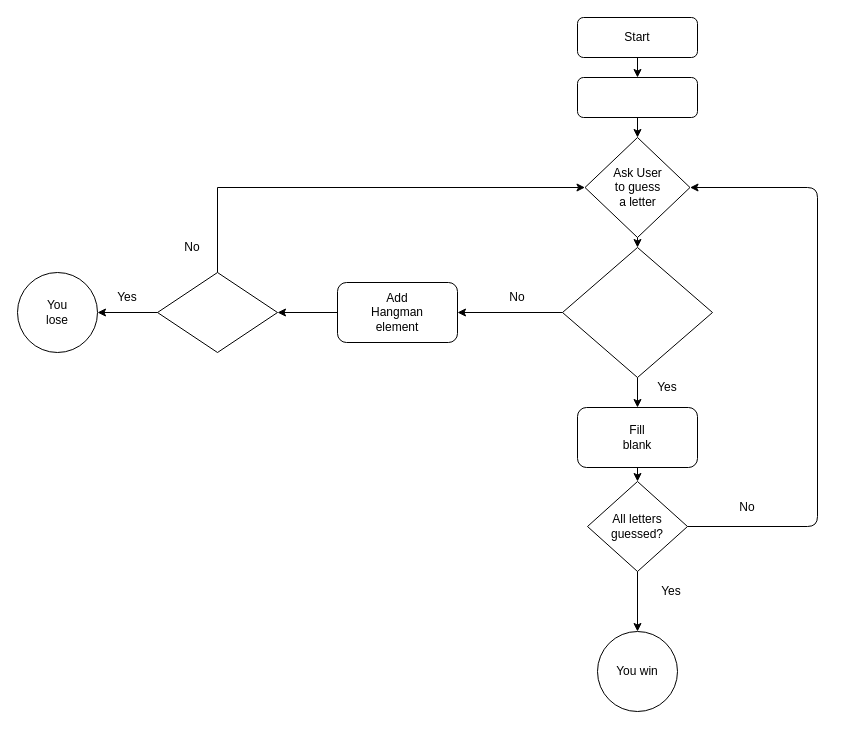
Some shapes in this 843 by 729 pixel diagram are drawn without their labels. The centre of each missing label's shape, as x and y in pixels:
"Hangman elements full ?" belongs at point 217,312.
"Random word generated and blanks" belongs at point 637,97.
"User guessed one letter from word ?" belongs at point 637,312.
